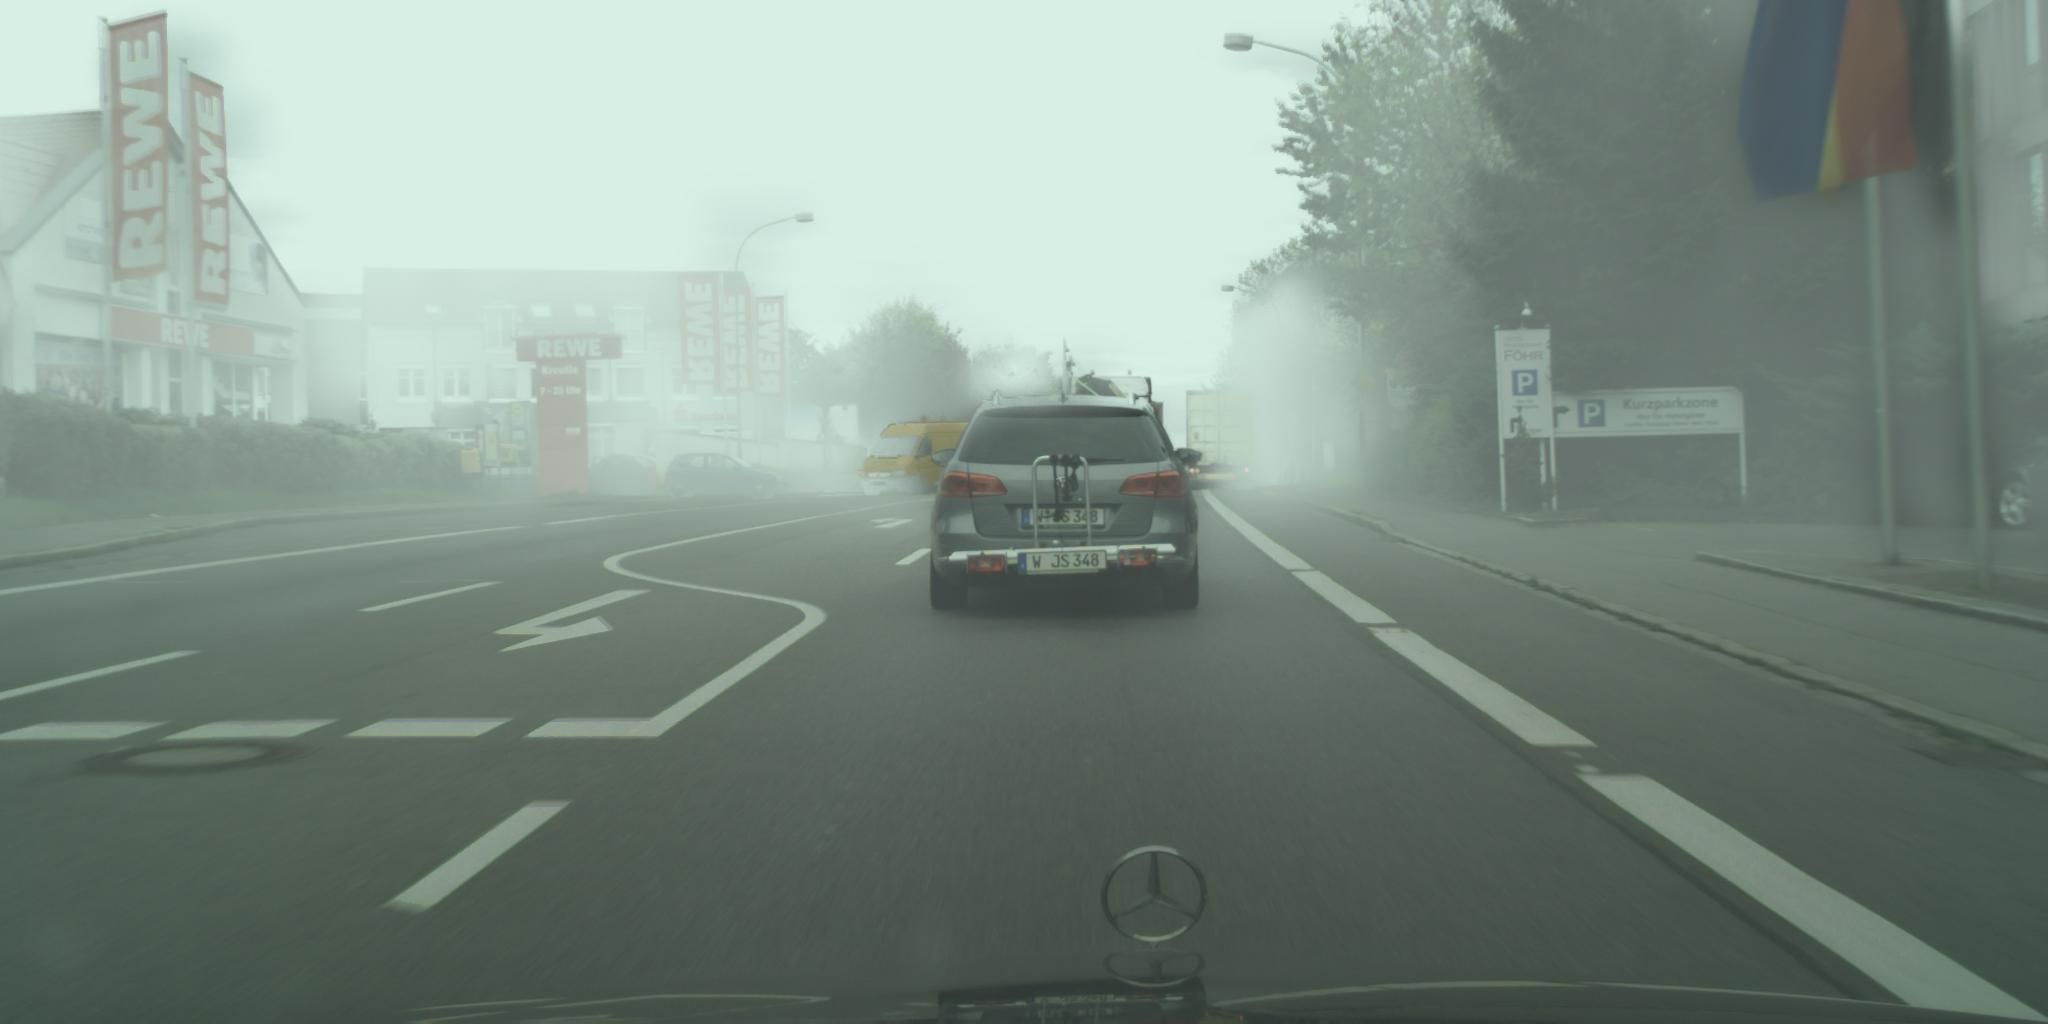car: (929, 391, 1203, 614), (1836, 388, 2048, 529), (859, 415, 974, 498), (665, 452, 788, 502)
truck: (1064, 338, 1164, 435), (1187, 392, 1254, 492)
